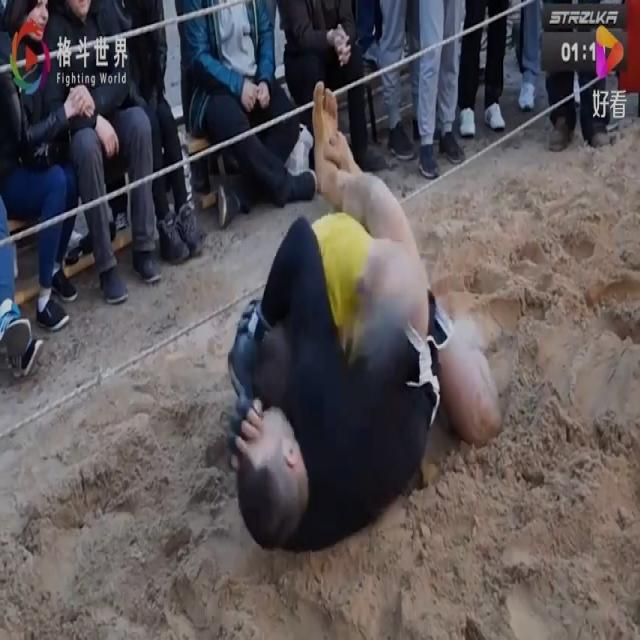fight: (216, 78, 508, 560)
